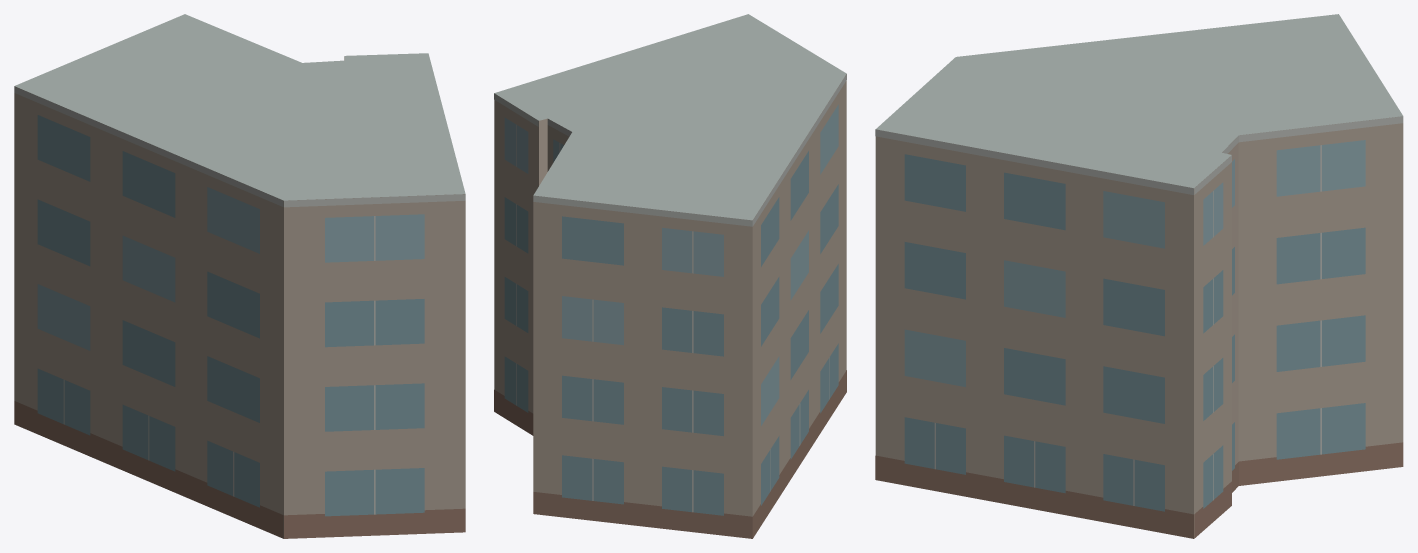
File: survey-upis-32713581.glb
The picture shows the model from 3 angles, left to right: view 1: azimuth 30°, elevation 25°; view 2: azimuth 150°, elevation 25°; view 3: azimuth 270°, elevation 25°; orthographic projection. The views are drawn at different scales.
Parts seen in each view (by area): view 1: survey-upis-32713581.tmp; view 2: survey-upis-32713581.tmp; view 3: survey-upis-32713581.tmp.
Part boxes in pixels (x1,y1,x2,y2): survey-upis-32713581.tmp: (14, 14, 465, 538); survey-upis-32713581.tmp: (494, 14, 846, 538); survey-upis-32713581.tmp: (875, 14, 1403, 538).
Bounding box in the file's own units: 13.01 × 12.2 × 16.66.
